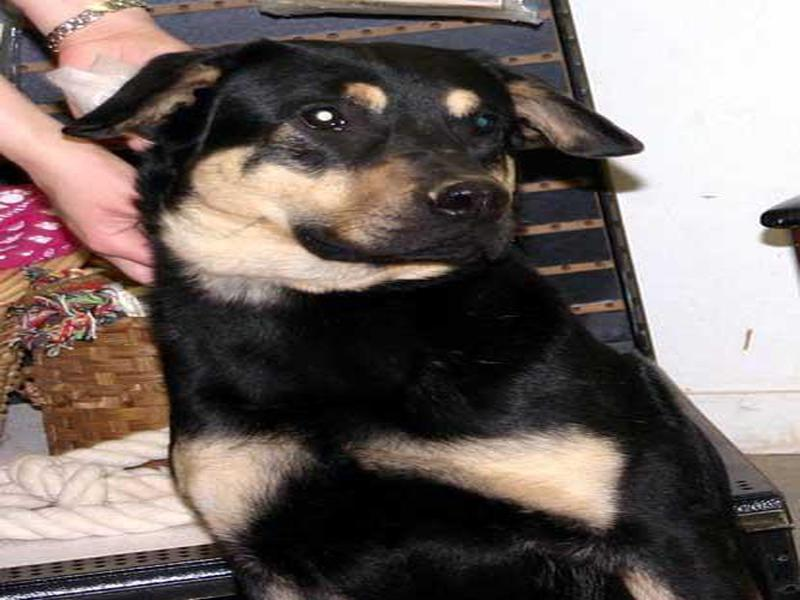dog: (52, 24, 779, 593)
